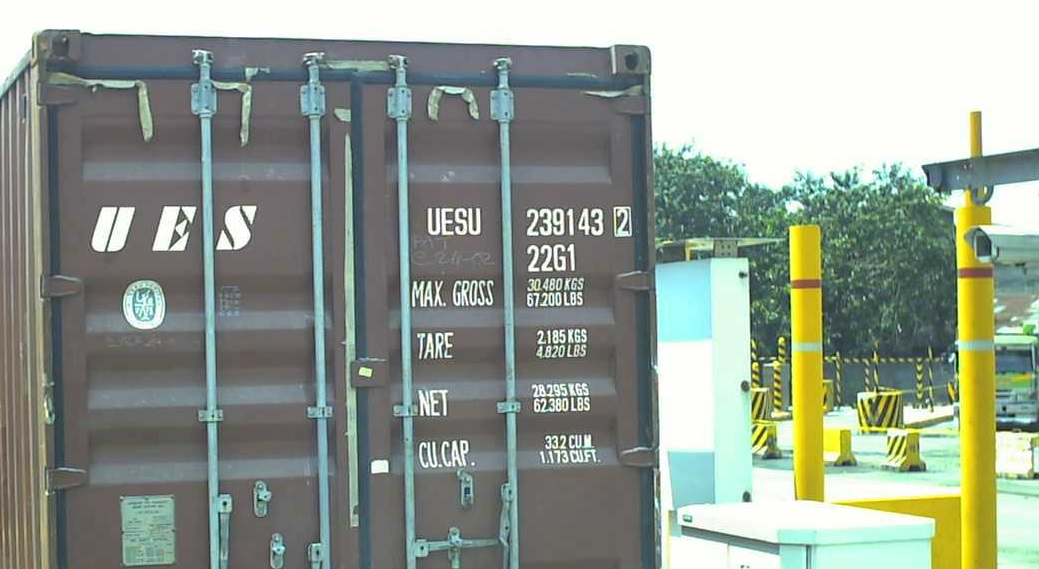container_door: (30, 27, 659, 569)
